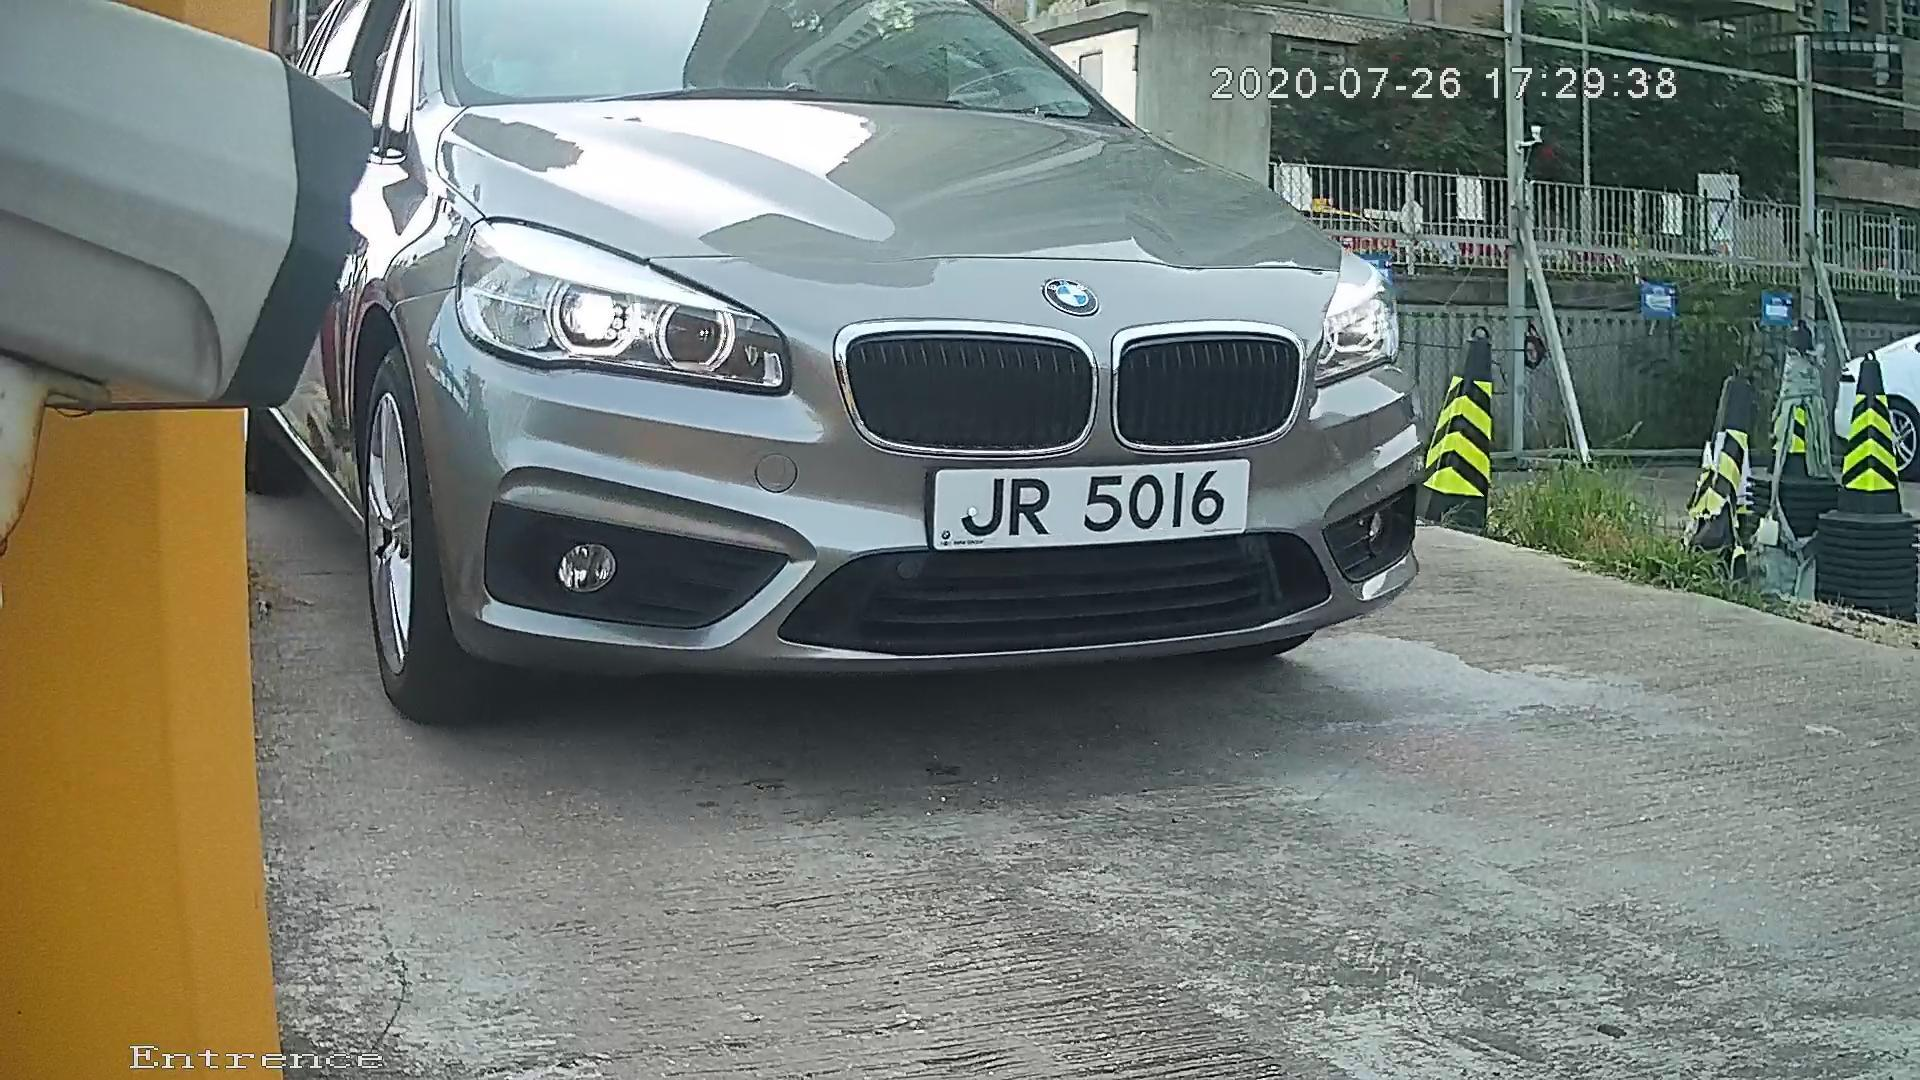privatecar: (345, 3, 1477, 736)
